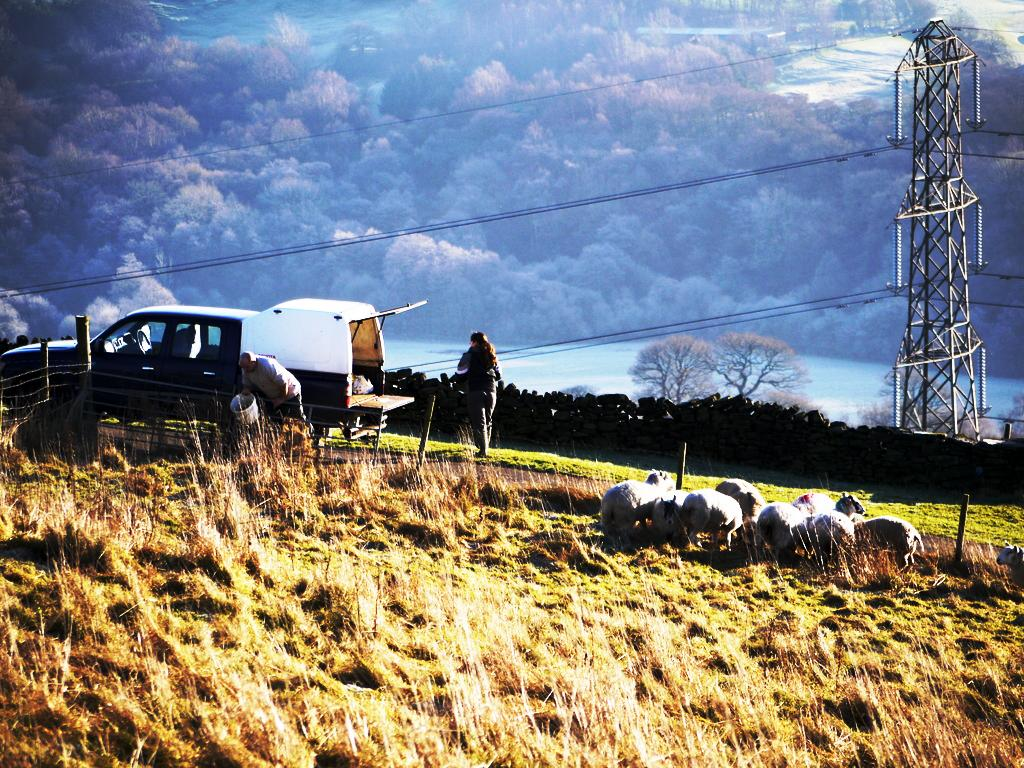Sheep: (594, 469, 677, 546), (679, 491, 752, 553), (848, 517, 926, 569), (789, 511, 856, 565), (754, 500, 808, 567), (808, 492, 870, 536), (994, 537, 1024, 598)
